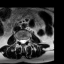CCS_normal: (21, 37, 23, 46)
LFS_normal: (26, 36, 28, 43)
LLS_normal: (23, 37, 26, 45)
RFS_normal: (17, 36, 19, 44)
RLS_normal: (19, 37, 21, 45)
